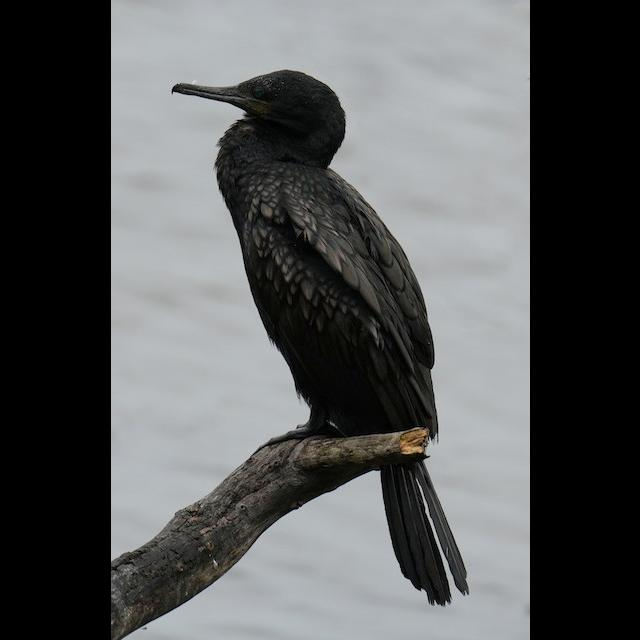cormorant: (165, 66, 477, 606)
